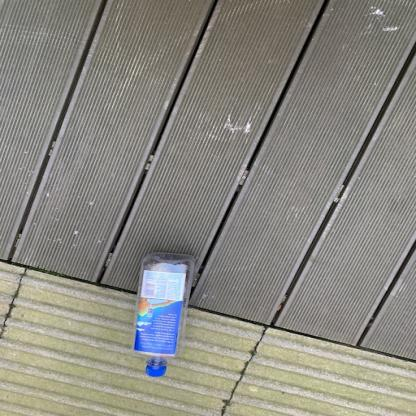trash: (134, 251, 193, 378)
